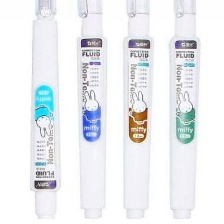correction_fluid: (164, 0, 201, 221), (73, 0, 109, 221), (27, 0, 62, 221), (119, 0, 154, 220)
